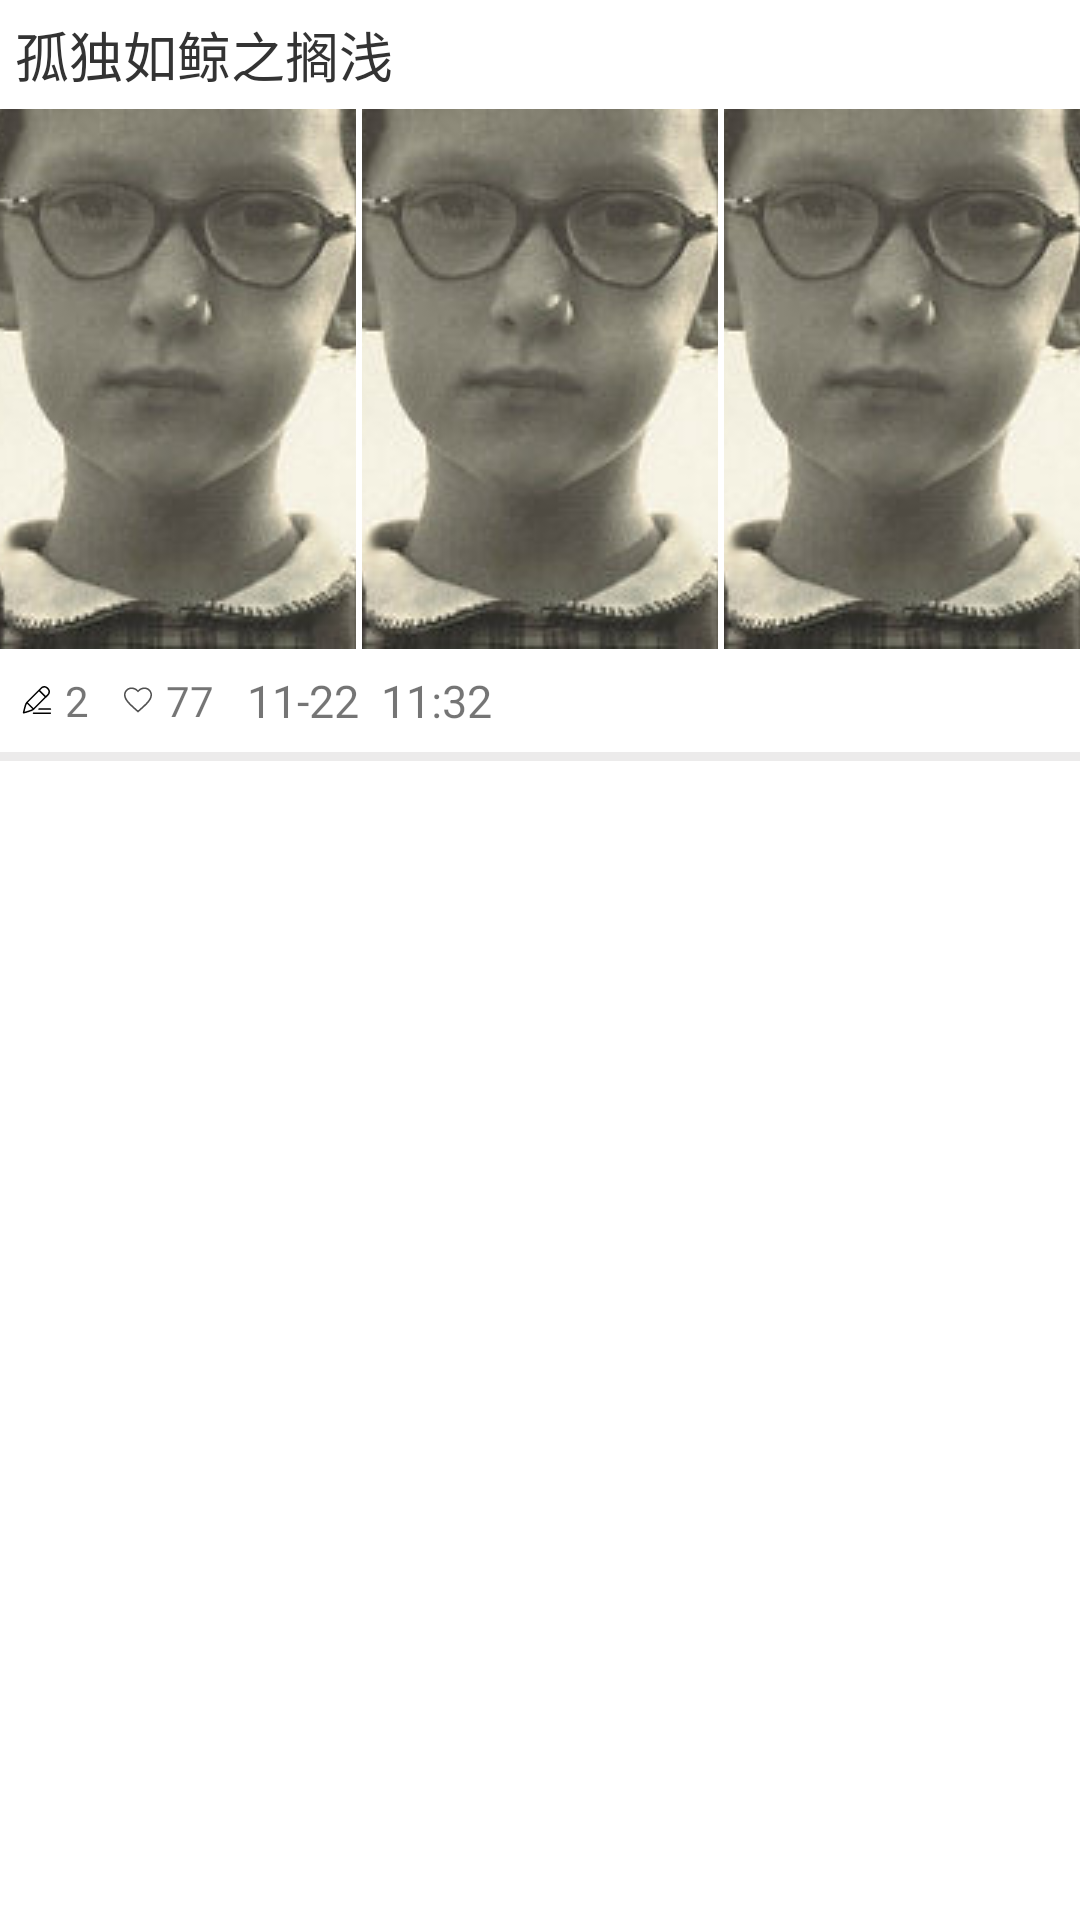

Locate icon controls on the screen. Image size 1080px×1920px, boxes as (x1, y1, x2, y2).
pinglun: (22, 686, 51, 714)
zhichi: (124, 687, 152, 713)
